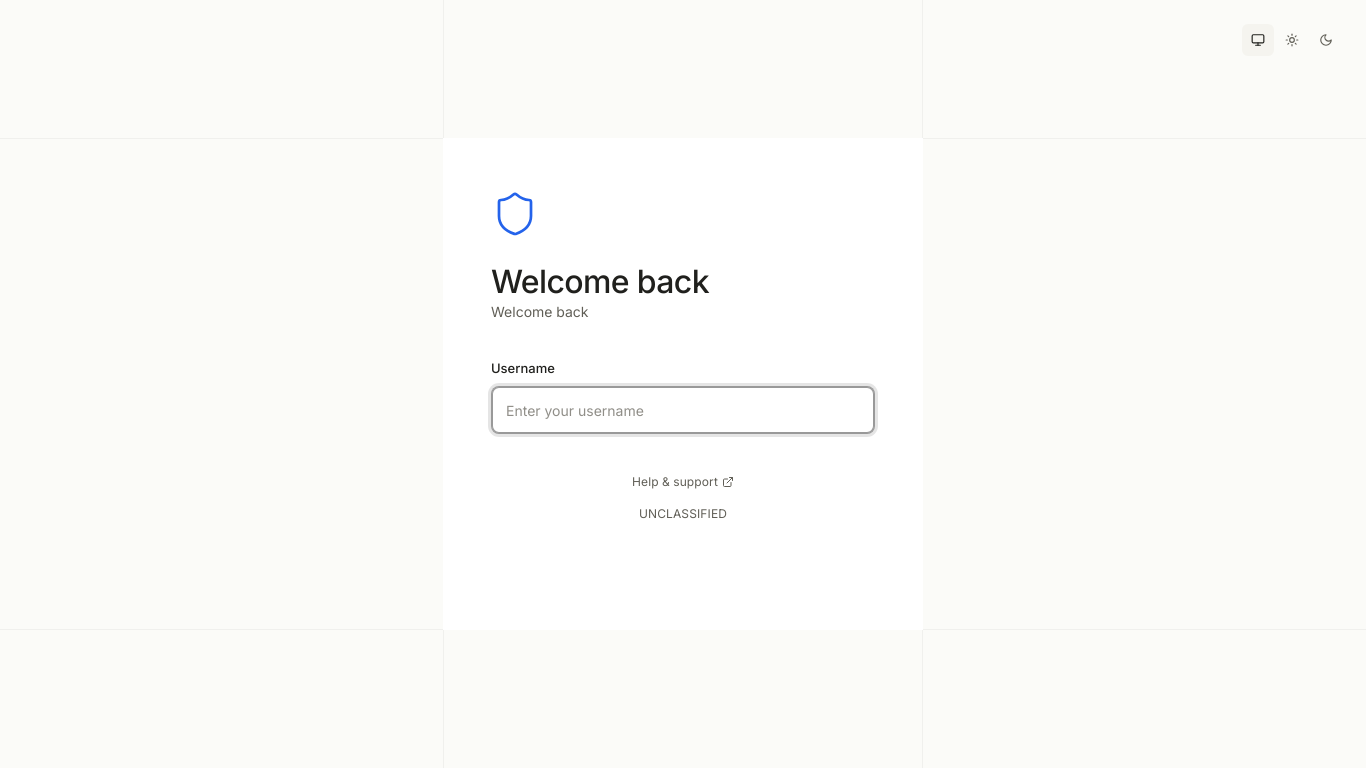
Test case: Login — white-label copy + layouts › renders the split layout without crashing (form is reachable)
Type "analyst" into the field labelled "Username" at (683, 410), box [491,386,875,434]
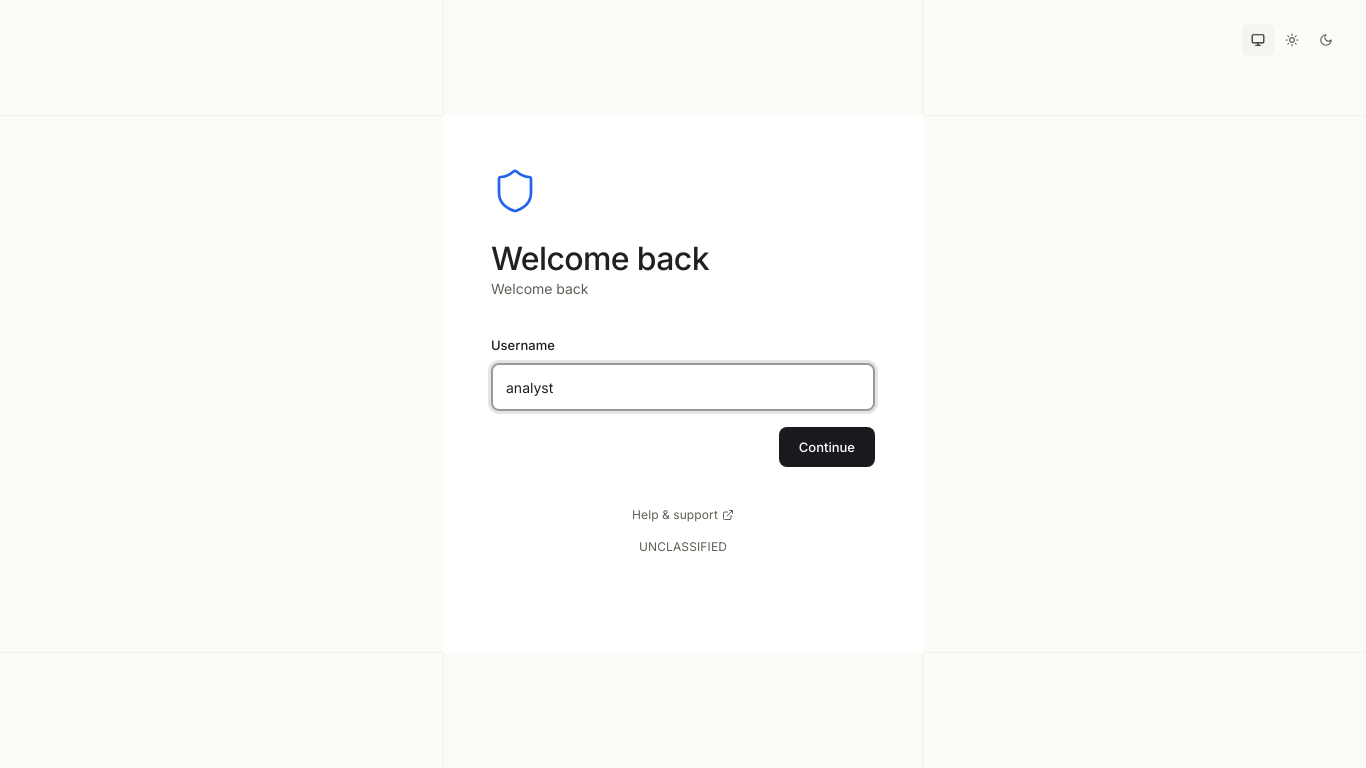
Click the button "Continue" at (827, 447), box [779,427,875,467]
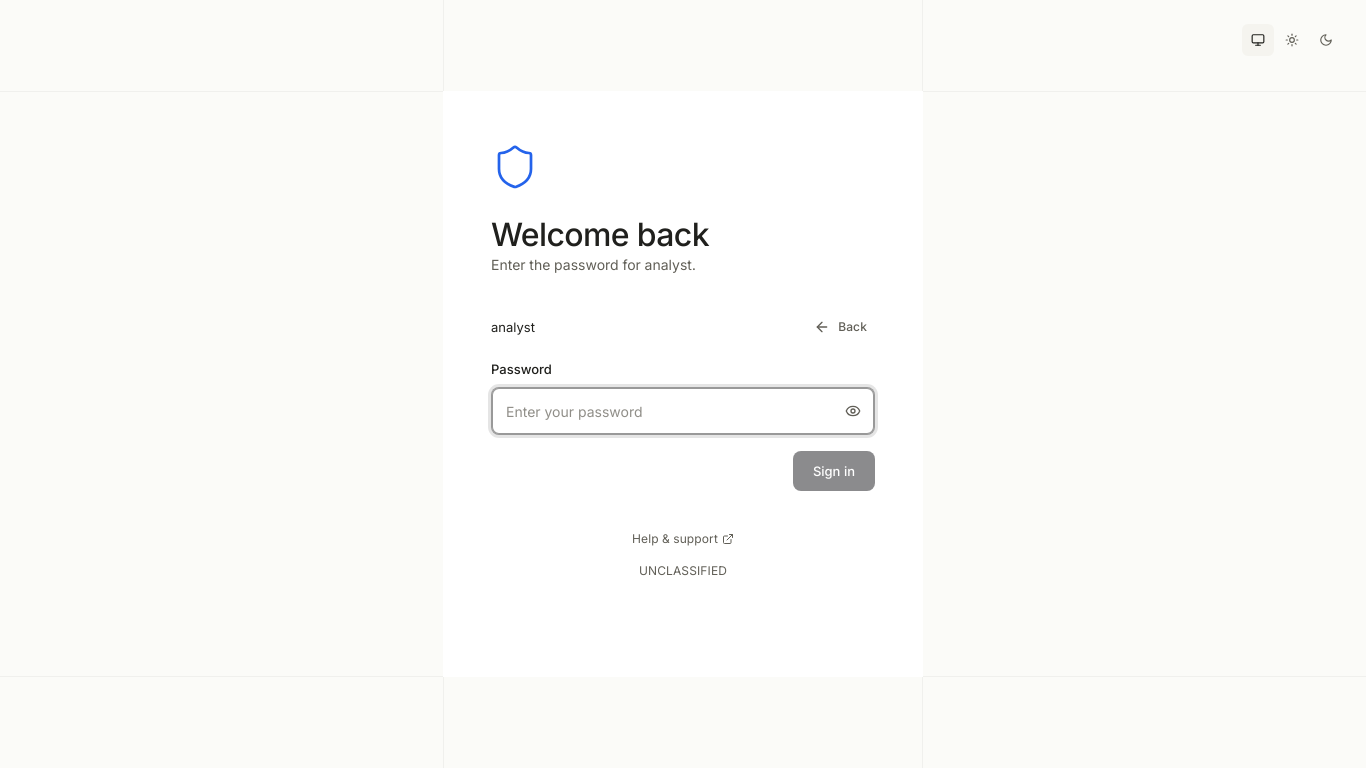
Now the password field labelled "Password" is shown, box [491,387,875,435]
